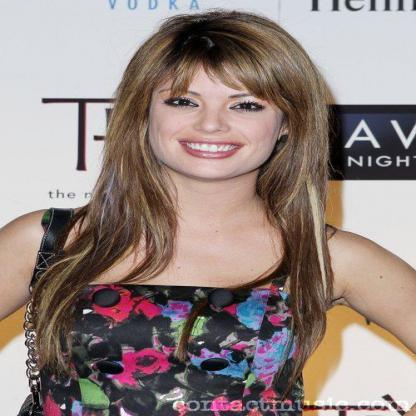long-hair: (82, 183, 332, 228)
